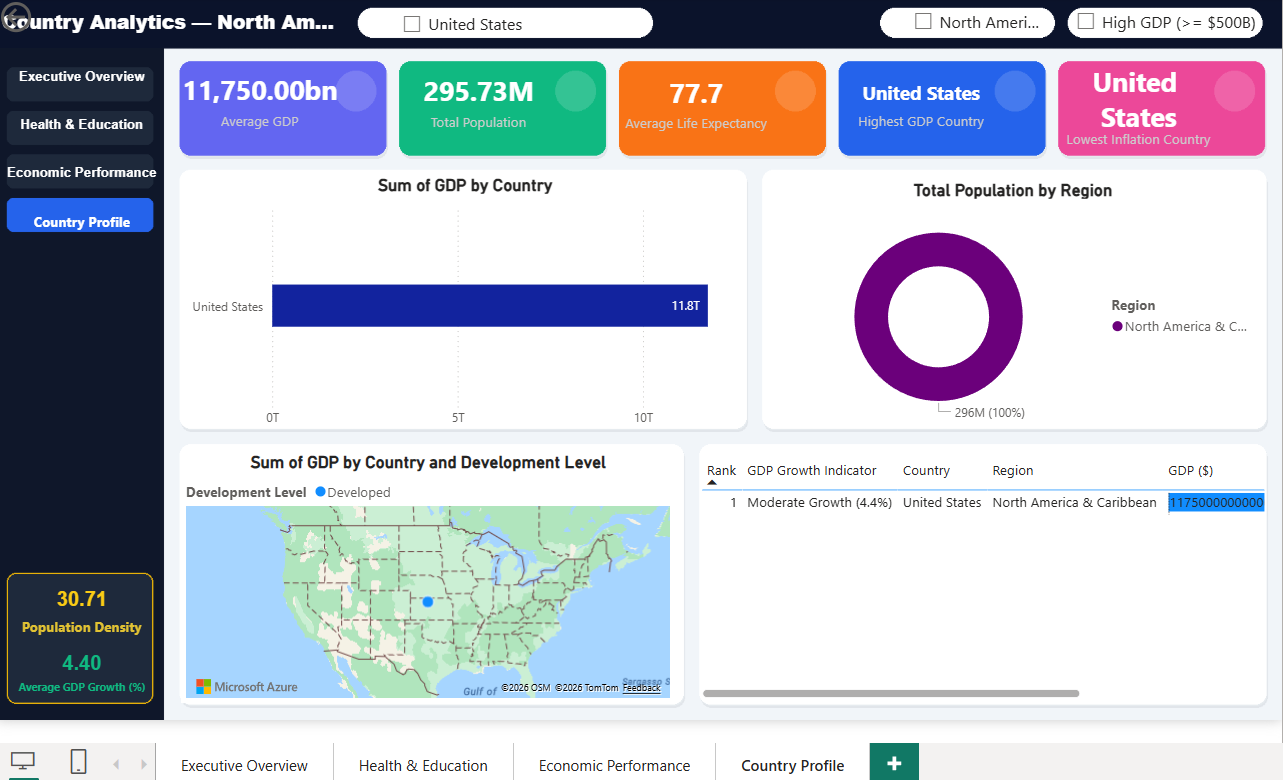

The dashboard page shown, as its layout file describes it:
{"tool":"powerbi","page":{"name":"Country Profile","canvas":[1280,720],"ordinal":3},"visuals":[{"type":"card","fields":{"Values":["_Measures.Dynamic Dashboard Title"]},"box":[0,0,342.5,52.5],"z":0},{"type":"slicer","fields":{"Values":["Countries.Country"]},"box":[393.3,7.2,302.8,41],"z":1000},{"type":"slicer","fields":{"Values":["Countries.Region"]},"box":[902.5,5,144.2,41.7],"z":2000},{"type":"slicer","fields":{"Values":["Countries.GDP Category"]},"box":[1063.3,5.6,203.3,41.1],"z":3000},{"type":"card","fields":{"Values":["_Measures.Average GDP"]},"box":[171.1,27.8,182.2,150],"z":4000},{"type":"card","fields":{"Values":["_Measures.Total Population"]},"box":[390,28.9,182.2,150],"z":5000},{"type":"card","fields":{"Values":["_Measures.Average Life Expectancy"]},"box":[605.6,30,182.2,150],"z":6000},{"type":"card","fields":{"Values":["_Measures.Highest GDP Country"]},"box":[830,31.1,182.2,150],"z":7000},{"type":"card","fields":{"Values":["_Measures.Lowest Inflation Country"]},"box":[1046.7,32.2,182.2,150],"z":8000},{"type":"clusteredBarChart","fields":{"Category":["Countries.Country"],"Y":["Sum(Countries.GDP)"]},"box":[184.6,176.1,565.8,260.6],"z":9000},{"type":"donutChart","fields":{"Category":["Countries.Region"],"Y":["_Measures.Total Population"]},"box":[761.3,182.2,501.9,254.6],"z":10000},{"type":"azureMap","fields":{"Category":["Countries.Country"],"Series":["Countries.Development Level"],"Size":["Sum(Countries.GDP)"]},"box":[184.6,452.4,492.2,249.7],"z":11000},{"type":"tableEx","fields":{"Values":["_Measures.Country GDP Rank","_Measures.GDP Growth Indicator","Countries.Country","Countries.Region","Sum(Countries.GDP)","Sum(Countries.GDP_Per_Capita)","Countries.Growth Indicator Category"]},"box":[696.1,452.4,570.6,249.7],"z":12000},{"type":"actionButton","box":[0,0,100,40],"z":13000},{"type":"pageNavigator","box":[0,67.1,171.4,168.6],"z":14000},{"type":"card","fields":{"Values":["_Measures.Population Density"]},"box":[0,577.1,171.4,64.3],"z":15000},{"type":"card","fields":{"Values":["_Measures.Average GDP Growth (%)"]},"box":[0,638.6,171.4,64.3],"z":15001}]}

Visuals, with their boxes on the page's 1280x720 design canvas (x1, y1, x2, y2). These are canvas units, not pixel positions in the 1283x780 screenshot, which may show the page scaled, cropped or inside an application window:
card - _Measures.Dynamic Dashboard Title: [0, 0, 342, 52]
slicer - Countries.Country: [393, 7, 696, 48]
slicer - Countries.Region: [902, 5, 1047, 47]
slicer - Countries.GDP Category: [1063, 6, 1267, 47]
card - _Measures.Average GDP: [171, 28, 353, 178]
card - _Measures.Total Population: [390, 29, 572, 179]
card - _Measures.Average Life Expectancy: [606, 30, 788, 180]
card - _Measures.Highest GDP Country: [830, 31, 1012, 181]
card - _Measures.Lowest Inflation Country: [1047, 32, 1229, 182]
clusteredBarChart - Countries.Country x Sum(Countries.GDP): [185, 176, 750, 437]
donutChart - Countries.Region x _Measures.Total Population: [761, 182, 1263, 437]
azureMap - Countries.Country x Countries.Development Level: [185, 452, 677, 702]
tableEx - _Measures.Country GDP Rank x _Measures.GDP Growth Indicator: [696, 452, 1267, 702]
actionButton: [0, 0, 100, 40]
pageNavigator: [0, 67, 171, 236]
card - _Measures.Population Density: [0, 577, 171, 641]
card - _Measures.Average GDP Growth (%): [0, 639, 171, 703]
